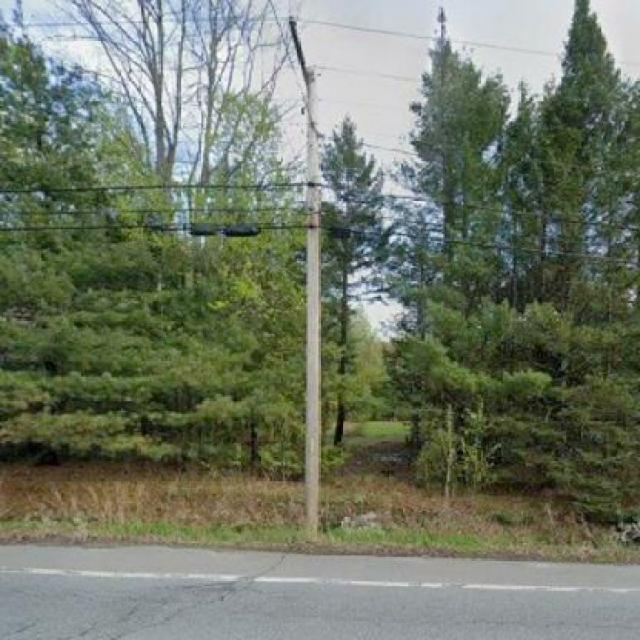pole: (302, 63, 320, 540)
wire: (0, 15, 639, 68), (0, 183, 640, 232), (0, 223, 639, 265)
